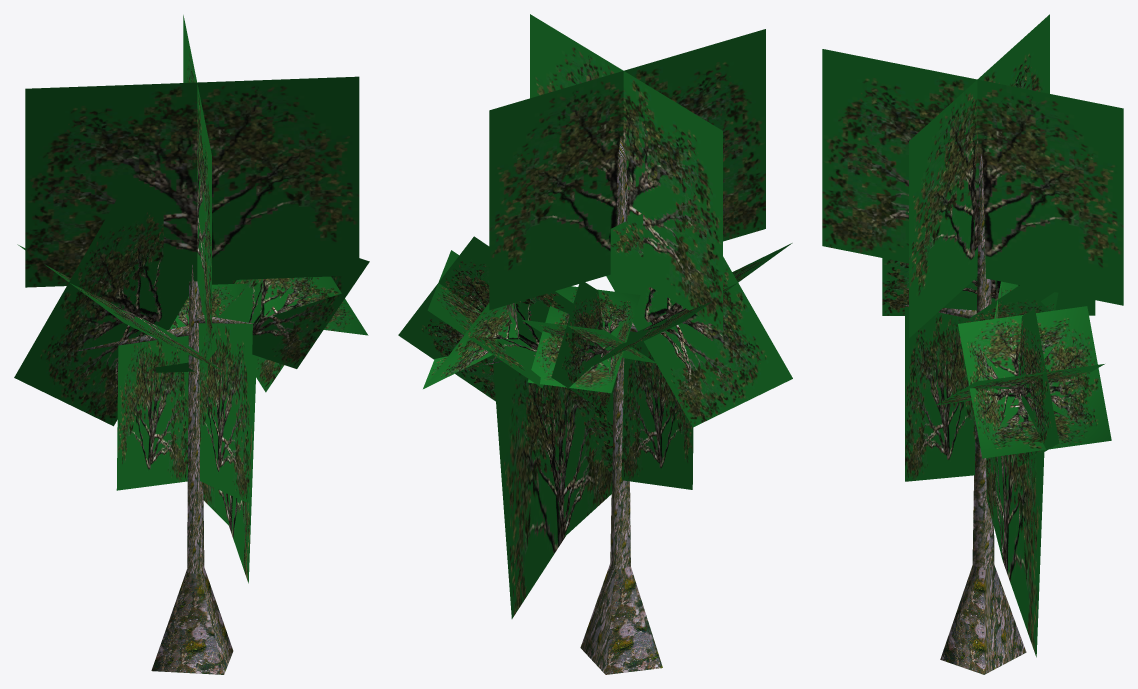
Rendered from decd_mosstreeflared_l2.fbx.
3 renders of one model, left to right at view 1: azimuth 30°, elevation 25°; view 2: azimuth 150°, elevation 25°; view 3: azimuth 270°, elevation 25°, orthographic.
Parts seen in each view (by area): view 1: mesh_node; view 2: mesh_node; view 3: mesh_node.
Part boxes in pixels (left/top/right/bottom): mesh_node: left=14, top=15, right=369, bottom=674; mesh_node: left=398, top=14, right=792, bottom=674; mesh_node: left=822, top=14, right=1123, bottom=674.
Bounding box in the file's own units: 10.33 × 15.97 × 7.57.
